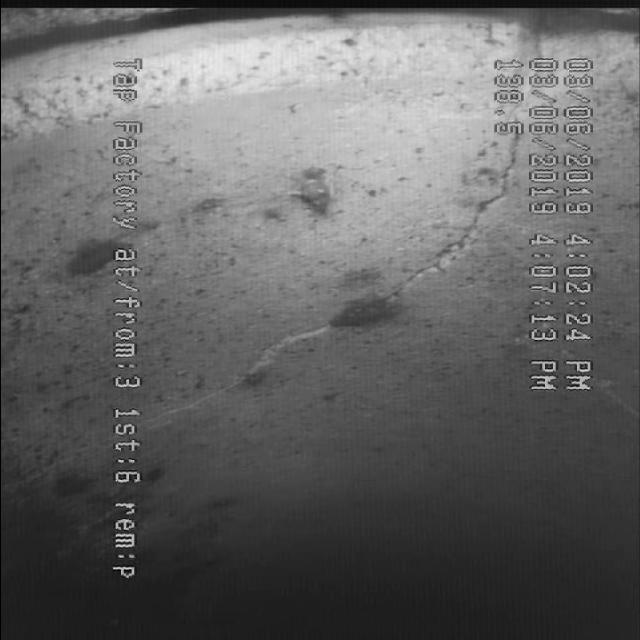Crack: (199, 216, 520, 390)
